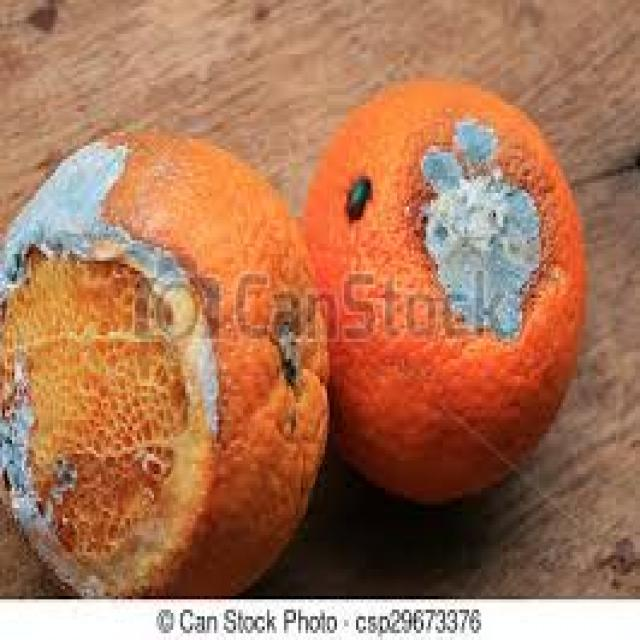organic waste: (0, 129, 327, 596), (298, 71, 585, 505)
